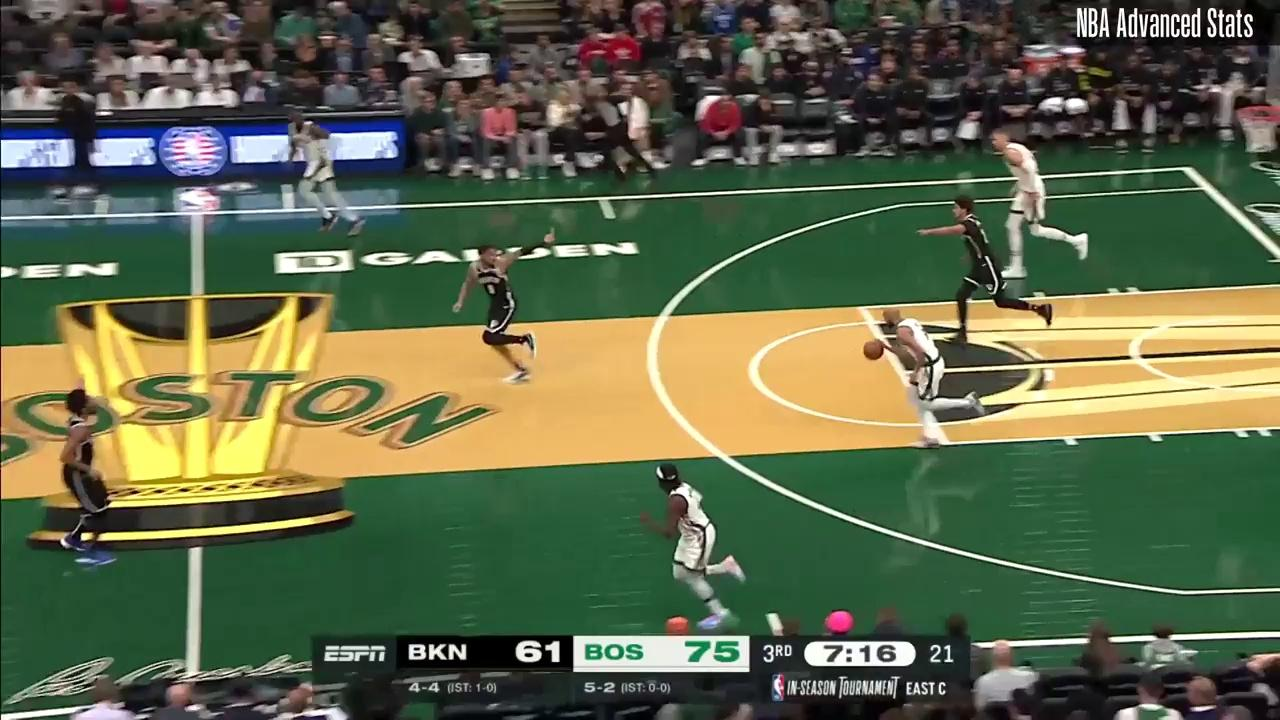3_sx: (1194, 182, 1221, 195)
b_dx: (600, 208, 619, 227)
b_sx: (1172, 158, 1197, 179)
free_adx: (934, 433, 959, 455)
free_asx: (853, 301, 879, 318)
half_sx: (183, 205, 217, 228)
mid_dx: (758, 603, 784, 623)
team: (648, 456, 751, 628), (989, 128, 1090, 274), (878, 309, 980, 446), (283, 109, 370, 233)
team1: (949, 198, 1041, 350), (53, 388, 120, 570), (467, 243, 540, 386)
timer: (821, 643, 904, 664)
